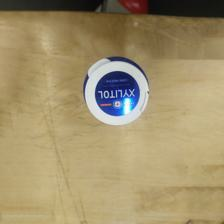Xylitol_blue: (82, 54, 150, 126)
